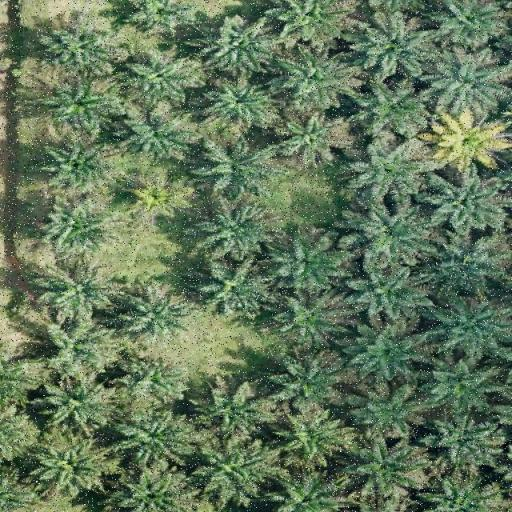Ganoderma: (439, 119, 493, 160), (132, 181, 177, 214)
